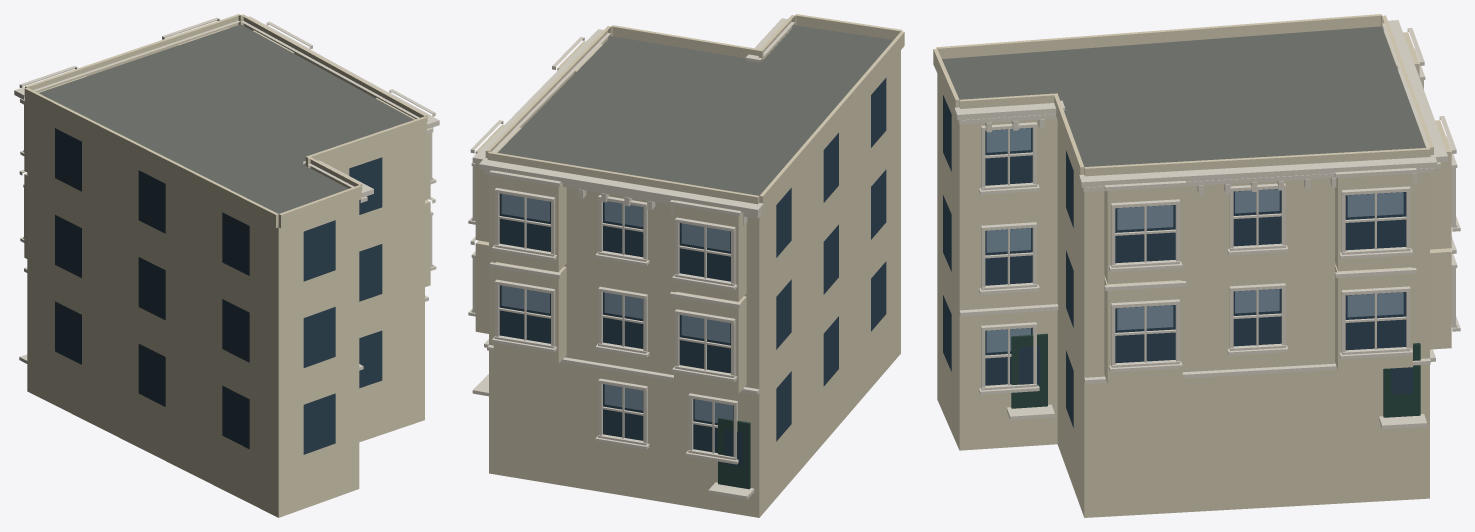
The picture shows the model from 3 angles, left to right: view 1: azimuth 30°, elevation 25°; view 2: azimuth 150°, elevation 25°; view 3: azimuth 270°, elevation 25°; orthographic projection. The views are drawn at different scales.
Parts seen in each view (by area): view 1: Footprint 0 / surface 2, Footprint 0 / surface 1, Inset glazing, Facade bay volumes, Cornices and window frames; view 2: Footprint 0 / surface 2, Footprint 0 / surface 1, Facade bay volumes, Cornices and window frames, Inset glazing, Sky reflection panels, Storefronts and doors; view 3: Footprint 0 / surface 2, Footprint 0 / surface 1, Cornices and window frames, Facade bay volumes, Inset glazing, Sky reflection panels, Storefronts and doors.
Boxes of the visible parts, x1,y1,x2,y2 form: Footprint 0 / surface 2: [27, 103, 424, 517]; Footprint 0 / surface 1: [39, 24, 413, 213]; Inset glazing: [55, 128, 382, 454]; Facade bay volumes: [24, 14, 430, 286]; Cornices and window frames: [14, 16, 439, 370]; Footprint 0 / surface 2: [489, 50, 900, 517]; Footprint 0 / surface 1: [497, 25, 893, 195]; Facade bay volumes: [475, 14, 904, 393]; Cornices and window frames: [468, 18, 794, 499]; Inset glazing: [499, 78, 886, 467]; Sky reflection panels: [501, 194, 732, 422]; Storefronts and doors: [718, 417, 750, 489]; Footprint 0 / surface 2: [937, 74, 1429, 517]; Footprint 0 / surface 1: [942, 26, 1425, 166]; Cornices and window frames: [954, 20, 1460, 429]; Facade bay volumes: [933, 14, 1451, 384]; Inset glazing: [943, 95, 1412, 427]; Sky reflection panels: [986, 128, 1403, 352]; Storefronts and doors: [1011, 333, 1420, 417].
Bounding box in the file's own units: 11.79 × 11.52 × 15.69.
